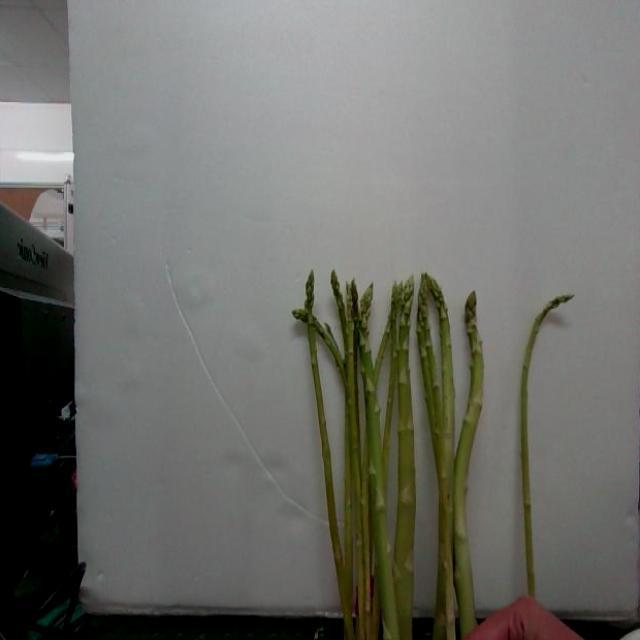aspargus: (519, 295, 573, 602)
